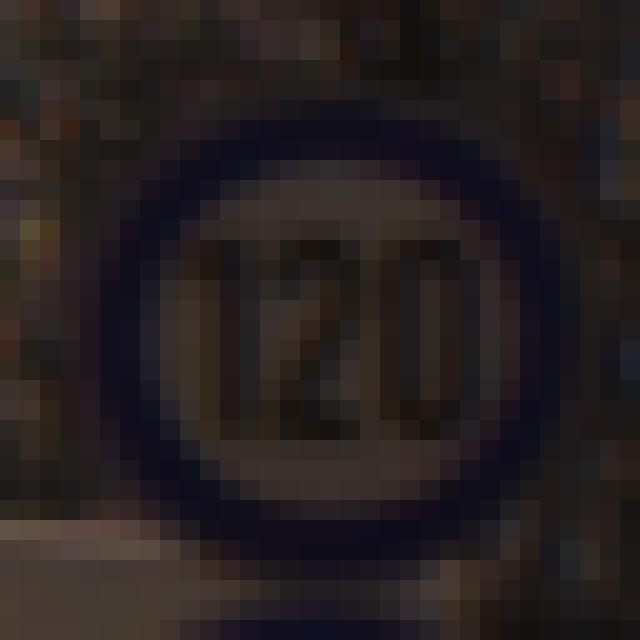SPEED LIMIT 120: (100, 112, 570, 566)
